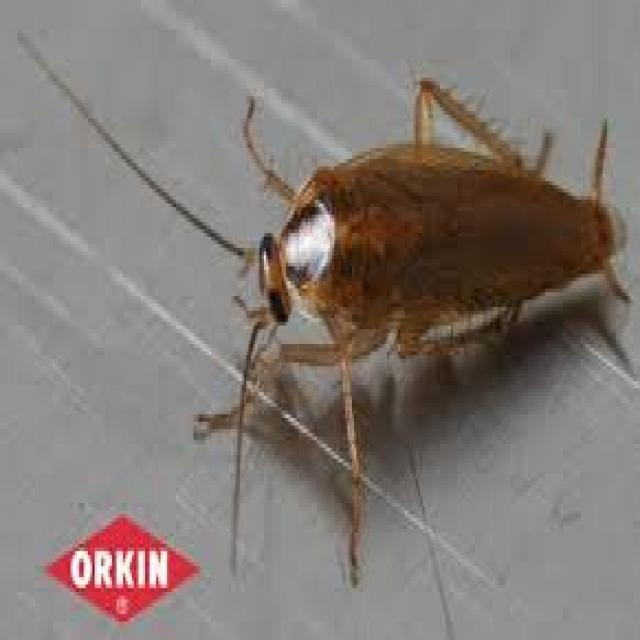Cockroach: (13, 8, 624, 522)
